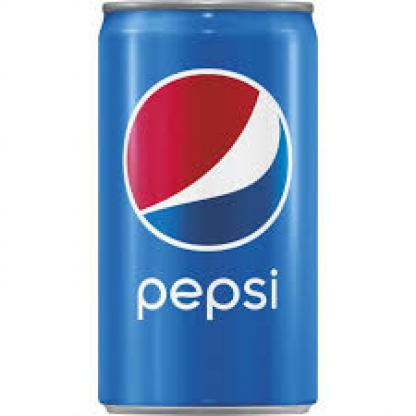METAL: (96, 0, 316, 414)
